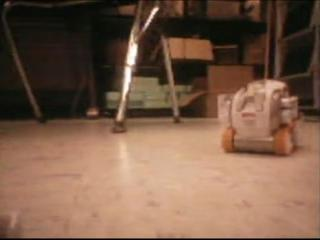cozmo: (219, 77, 300, 156)
